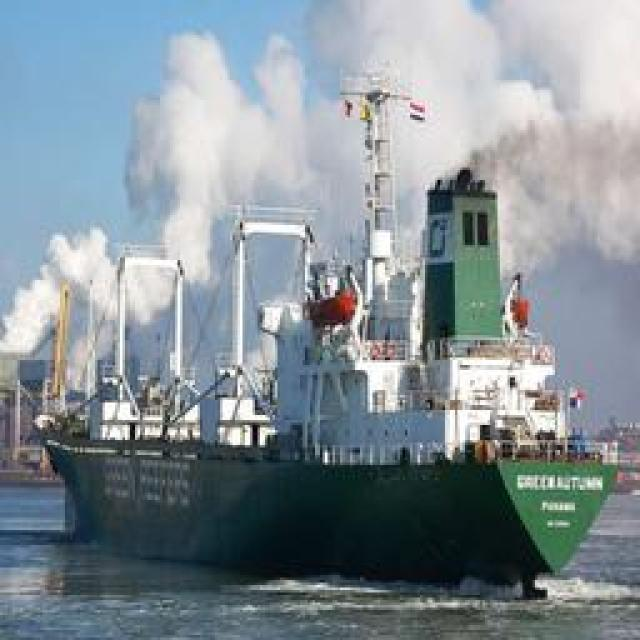CIV_Ship: (29, 168, 619, 582)
